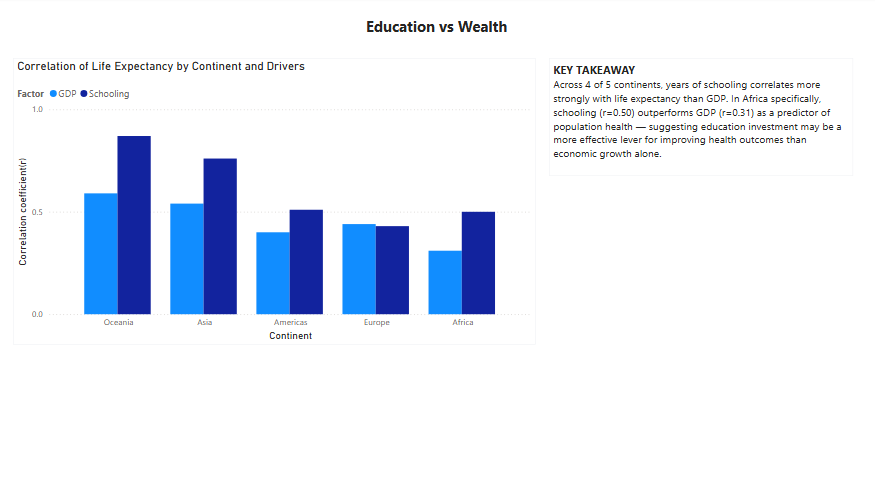

This screenshot's page, from the dashboard's own definition file:
{"tool":"powerbi","page":{"name":"Page 5","canvas":[1280,720],"ordinal":4},"visuals":[{"type":"clusteredColumnChart","title":"Correlation of Life Expectancy by Continent and Drivers","fields":{"Category":["v_Correlation_By_Continent.Continent"],"Y":["Avg(v_Correlation_By_Continent.Correlation)"],"Series":["v_Correlation_By_Continent.Factor"]},"box":[28.8,87.8,753.1,413.3],"z":0},{"type":"textbox","box":[380.2,23,517,53.3],"z":1000},{"type":"textbox","box":[800.6,87.8,437.8,169.9],"z":1001}]}

Visuals, with their boxes in screenshot pixels (x1, y1, x2, y2), scaled from the page's 1280x720 canvas onto the 875x483 screenshot:
"Correlation of Life Expectancy by Continent and Drivers" clusteredColumnChart: pyautogui.locateOnScreen(20, 59, 535, 336)
textbox: pyautogui.locateOnScreen(260, 15, 613, 51)
textbox: pyautogui.locateOnScreen(547, 59, 847, 173)
